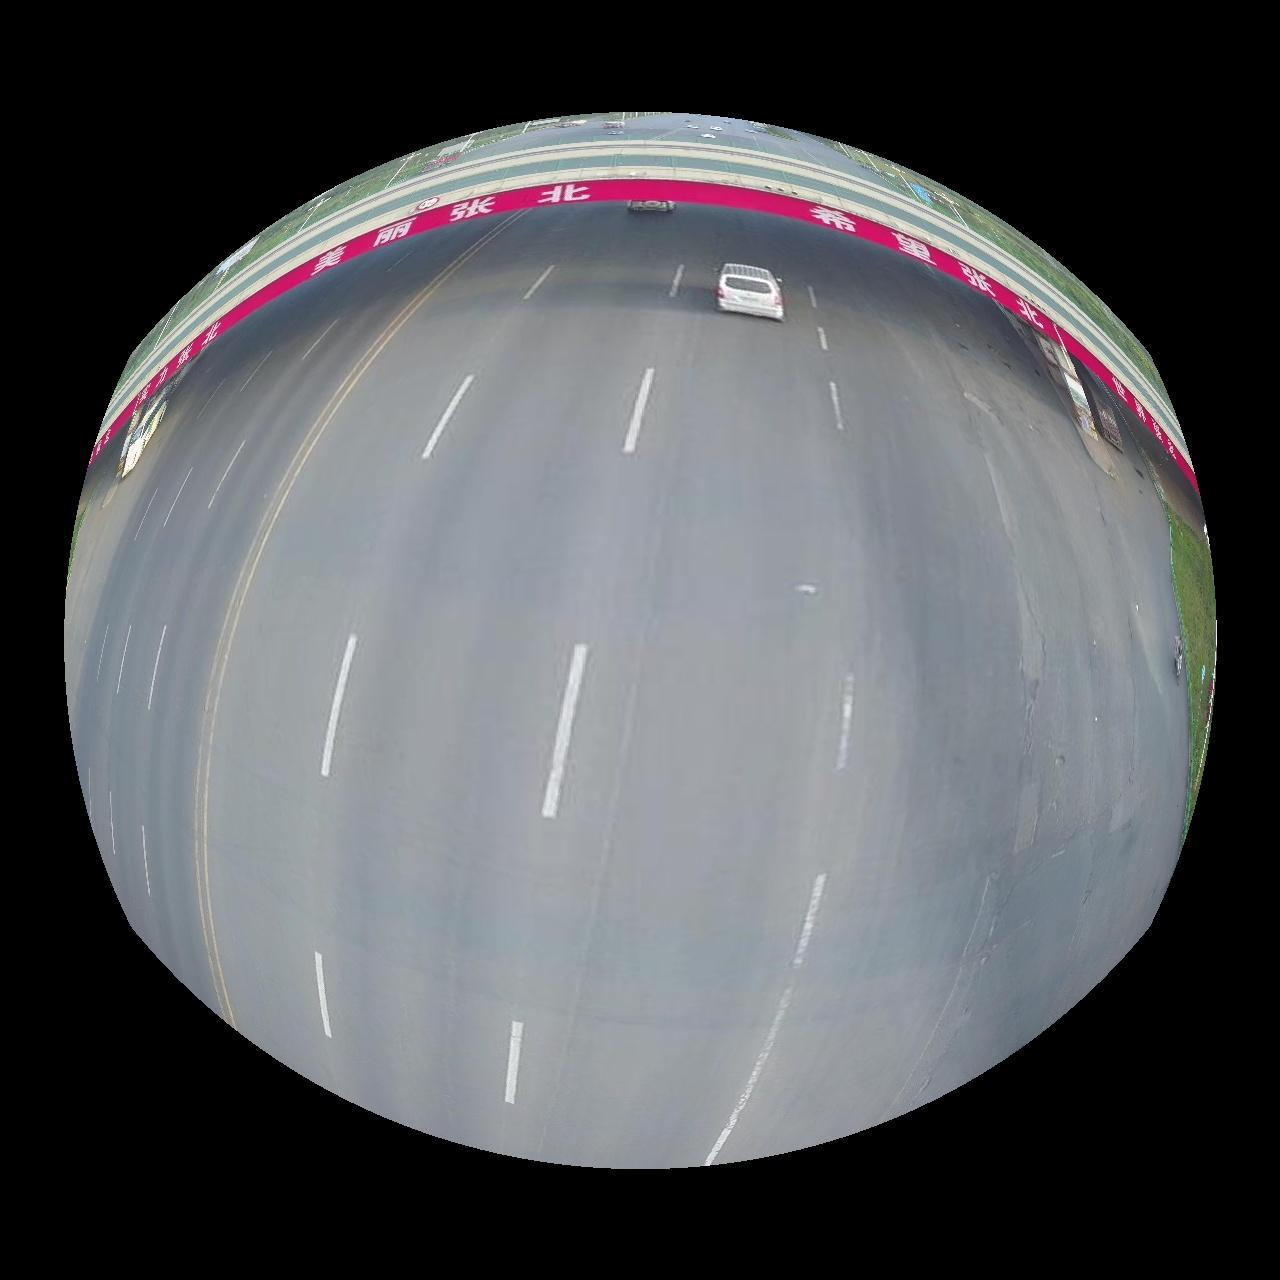cars: (115, 379, 176, 478), (716, 263, 787, 320), (627, 197, 678, 212)
trees: (1164, 486, 1219, 818)
